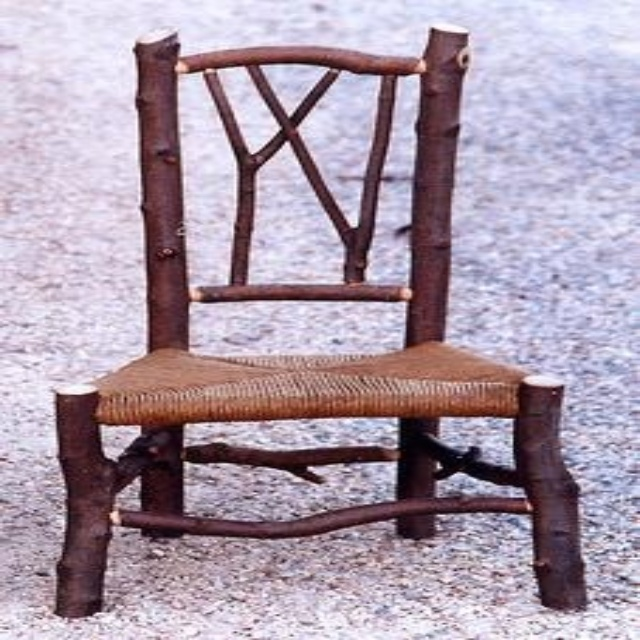obstacle: (56, 27, 584, 616)
